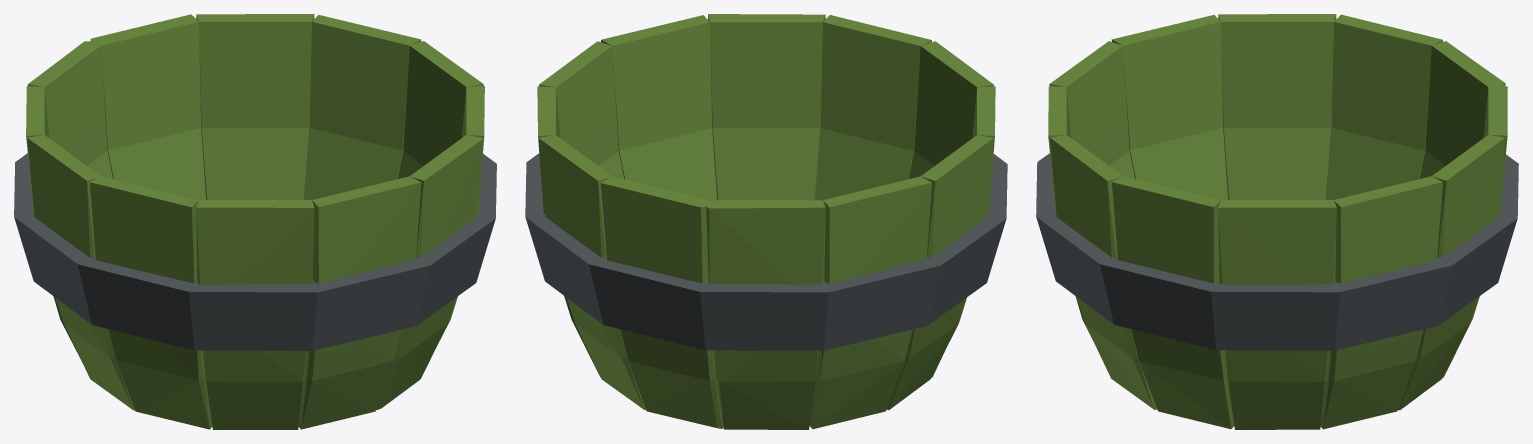
The model's file is Basket_02.fbx.
3 renders of one model, left to right at view 1: azimuth 30°, elevation 25°; view 2: azimuth 150°, elevation 25°; view 3: azimuth 270°, elevation 25°, orthographic.
Parts seen in each view (by area): view 1: Basket_02; view 2: Basket_02; view 3: Basket_02.
Boxes of the visible parts, x1,y1,x2,y2 form: Basket_02: [14, 14, 496, 429]; Basket_02: [525, 14, 1007, 429]; Basket_02: [1036, 14, 1518, 429].
Size of the model in its own units: 0.556 by 0.3173 by 0.556.
